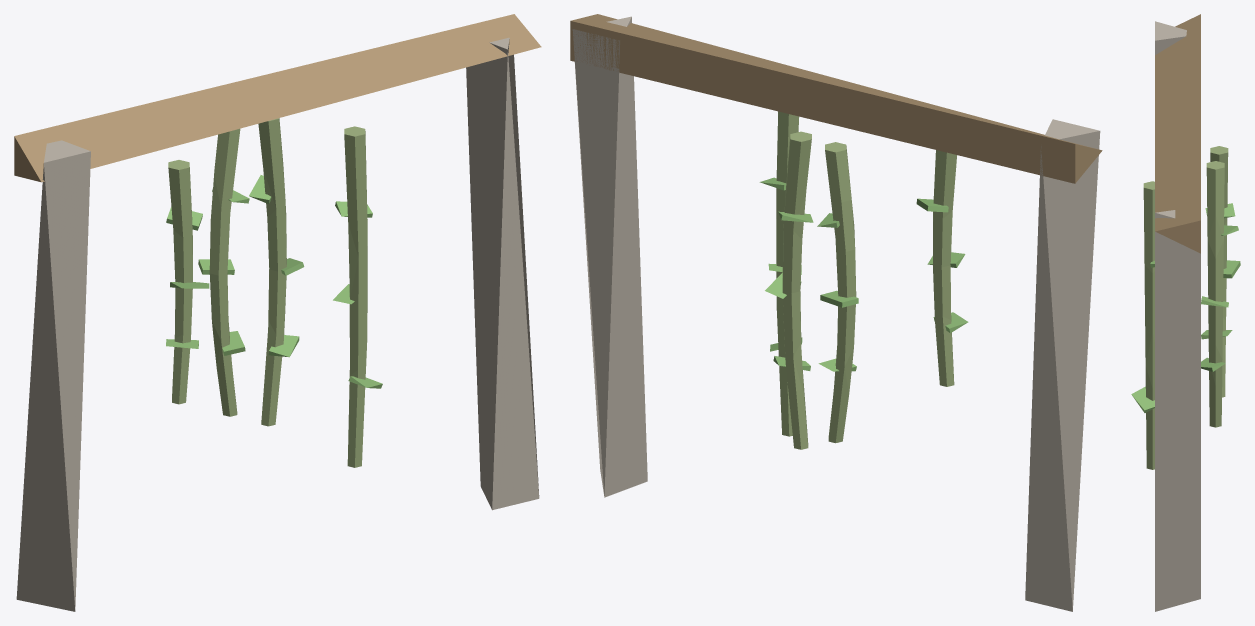
Rendered from 50-Vegetacion_liana_colgante.glb.
The picture shows the model from 3 angles, left to right: view 1: azimuth 30°, elevation 25°; view 2: azimuth 150°, elevation 25°; view 3: azimuth 270°, elevation 25°; orthographic projection. The views are drawn at different scales.
Parts seen in each view (by area): view 1: SM_Liana_M_Piedra_Liana, SM_Liana_M_Madera_Liana, SM_Liana_M_Tallo_Liana, SM_Liana_M_Hoja_Liana; view 2: SM_Liana_M_Piedra_Liana, SM_Liana_M_Madera_Liana, SM_Liana_M_Tallo_Liana, SM_Liana_M_Hoja_Liana; view 3: SM_Liana_M_Piedra_Liana, SM_Liana_M_Madera_Liana, SM_Liana_M_Tallo_Liana, SM_Liana_M_Hoja_Liana.
Boxes of the visible parts, left/top/right/bottom form: SM_Liana_M_Piedra_Liana: left=16, top=37, right=539, bottom=611; SM_Liana_M_Madera_Liana: left=14, top=14, right=541, bottom=182; SM_Liana_M_Tallo_Liana: left=168, top=118, right=367, bottom=467; SM_Liana_M_Hoja_Liana: left=166, top=175, right=382, bottom=388; SM_Liana_M_Piedra_Liana: left=572, top=16, right=1100, bottom=611; SM_Liana_M_Madera_Liana: left=570, top=14, right=1102, bottom=183; SM_Liana_M_Tallo_Liana: left=776, top=111, right=956, bottom=449; SM_Liana_M_Hoja_Liana: left=759, top=177, right=968, bottom=371; SM_Liana_M_Piedra_Liana: left=1155, top=21, right=1200, bottom=611; SM_Liana_M_Madera_Liana: left=1155, top=14, right=1200, bottom=253; SM_Liana_M_Tallo_Liana: left=1143, top=146, right=1228, bottom=469; SM_Liana_M_Hoja_Liana: left=1131, top=203, right=1240, bottom=412.
Size of the model in its own units: 2.12 by 1.88 by 0.4753.
